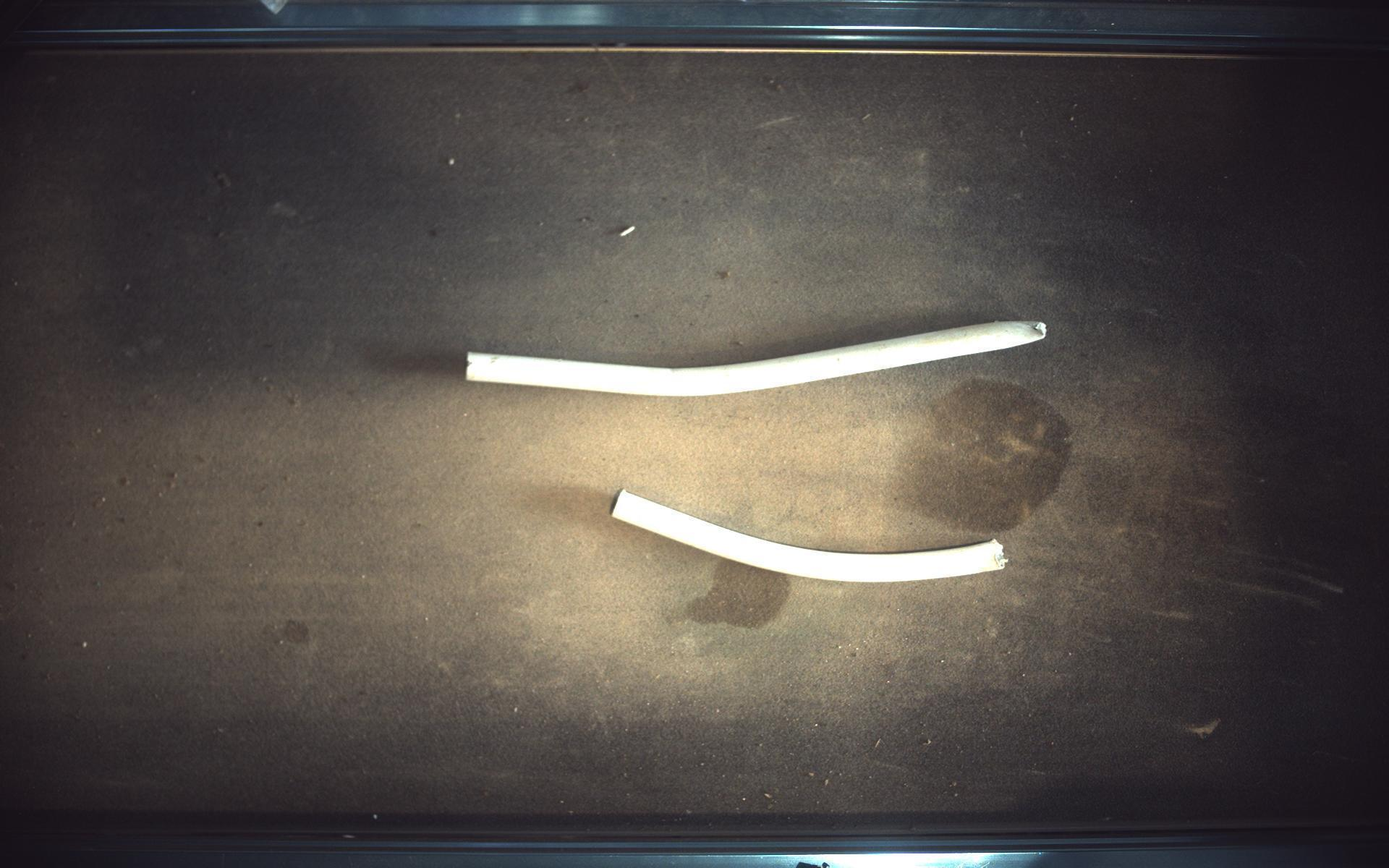pipes: (466, 321, 1049, 397), (613, 491, 1010, 583)
